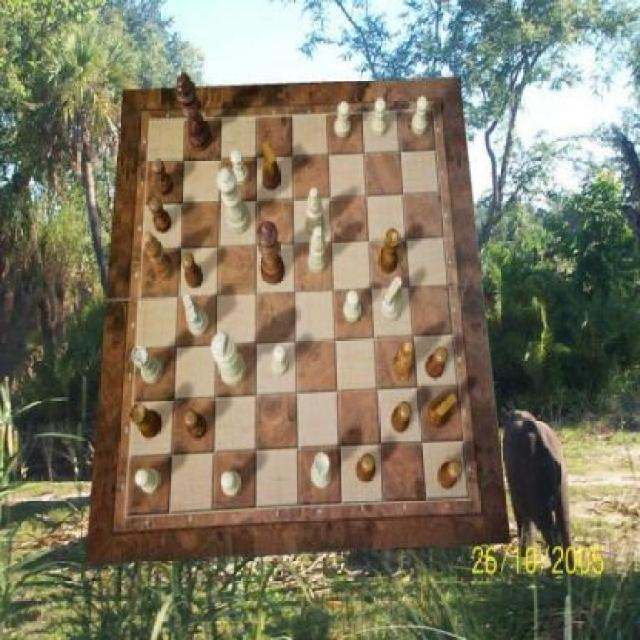bishop: (143, 231, 174, 280), (391, 340, 414, 382)
black-bishop: (177, 72, 212, 152)
black-king: (428, 392, 458, 428), (262, 143, 280, 191)
black-knight: (152, 159, 175, 196), (181, 252, 204, 288), (150, 198, 172, 234), (424, 348, 448, 380), (438, 460, 462, 491), (391, 401, 412, 434), (185, 411, 208, 440), (357, 454, 377, 481)
black-pawn: (257, 222, 285, 286)
black-queen: (130, 403, 162, 439), (378, 228, 399, 273)
black-rook: (306, 188, 326, 238), (308, 226, 328, 274)
white-bishop: (211, 331, 246, 385)
white-king: (183, 294, 211, 336), (380, 275, 402, 321)
white-knight: (410, 97, 428, 135), (136, 469, 162, 495), (230, 150, 248, 186), (371, 98, 387, 138), (334, 102, 351, 139), (343, 291, 361, 323), (271, 345, 288, 377), (222, 471, 242, 496)
white-pawn: (217, 168, 251, 234)
white-queen: (132, 346, 162, 385), (311, 451, 333, 488)
